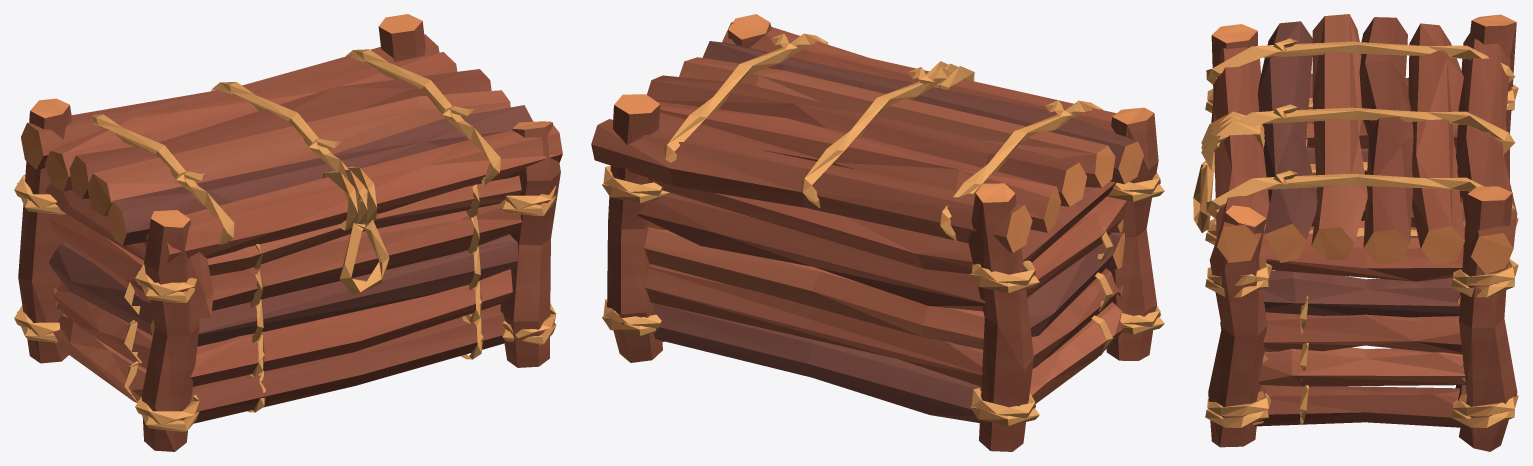
Rendered from Primitive_Stick_Chest.glb.
3 views of the same model, side by side, from view 1: azimuth 30°, elevation 25°; view 2: azimuth 150°, elevation 25°; view 3: azimuth 270°, elevation 25° (orthographic). The views are drawn at different scales.
Visible parts, largest first — view 1: Primitive Stick Chest; view 2: Primitive Stick Chest; view 3: Primitive Stick Chest.
Part boxes in pixels (x1,y1,x2,y2): Primitive Stick Chest: [14, 14, 562, 451]; Primitive Stick Chest: [591, 14, 1164, 451]; Primitive Stick Chest: [1193, 14, 1518, 451].
Bounding box in the file's own units: 3.22 × 1.84 × 2.14.
Materials: 1 (1 with a texture image).
